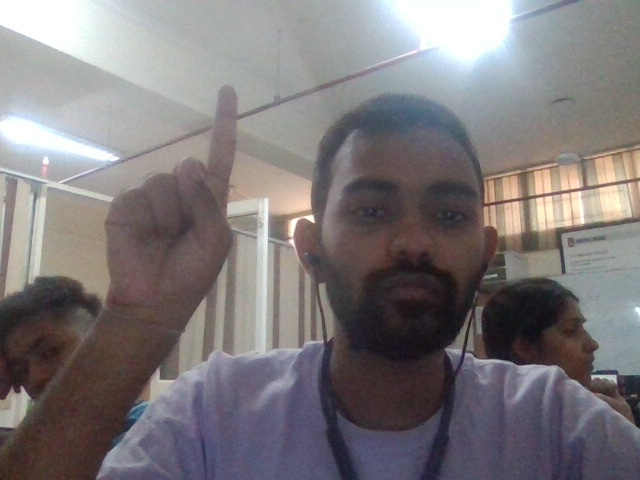Present: (103, 85, 241, 324)
